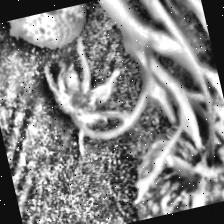Gray Mold: (40, 31, 139, 160)
